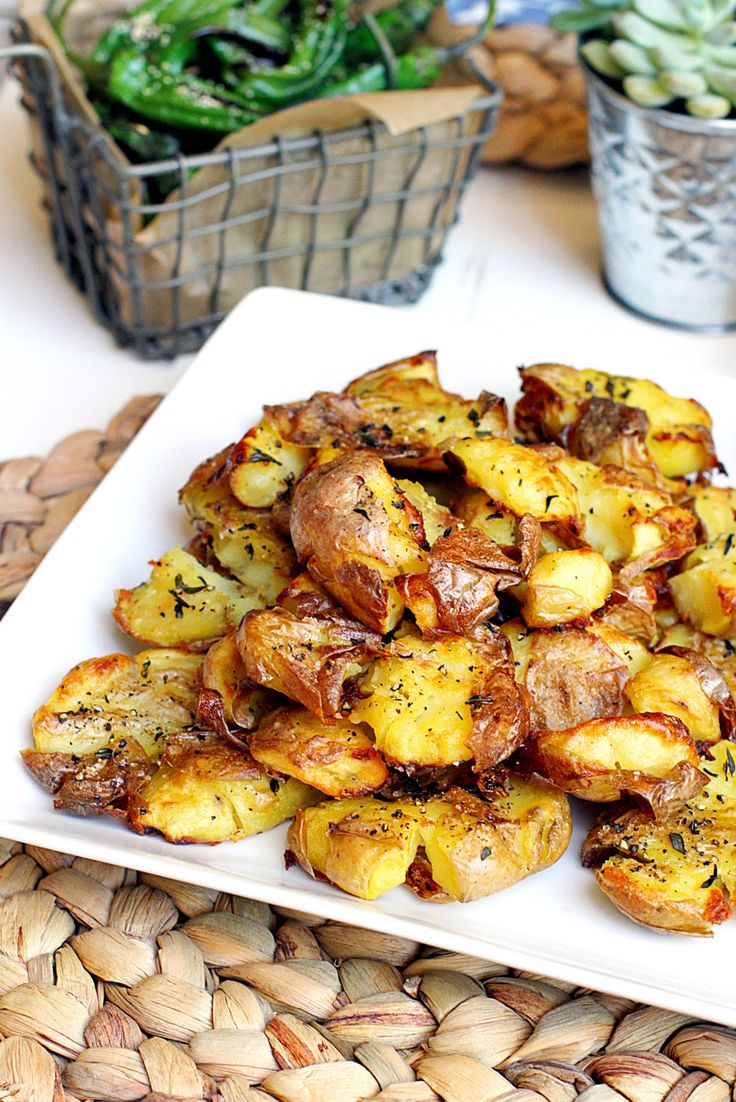boiled potatoes: (147, 408, 719, 892)
